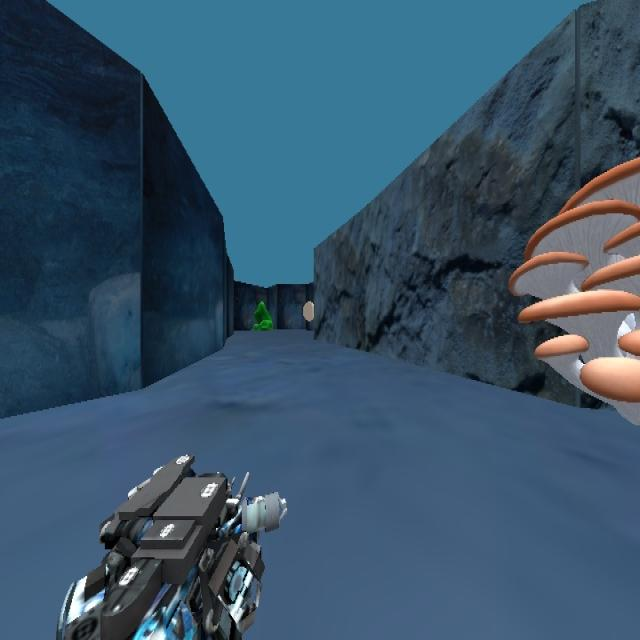Circle: (302, 300, 314, 321)
Diamon: (251, 300, 273, 332)
Mushroom: (508, 155, 639, 421)
